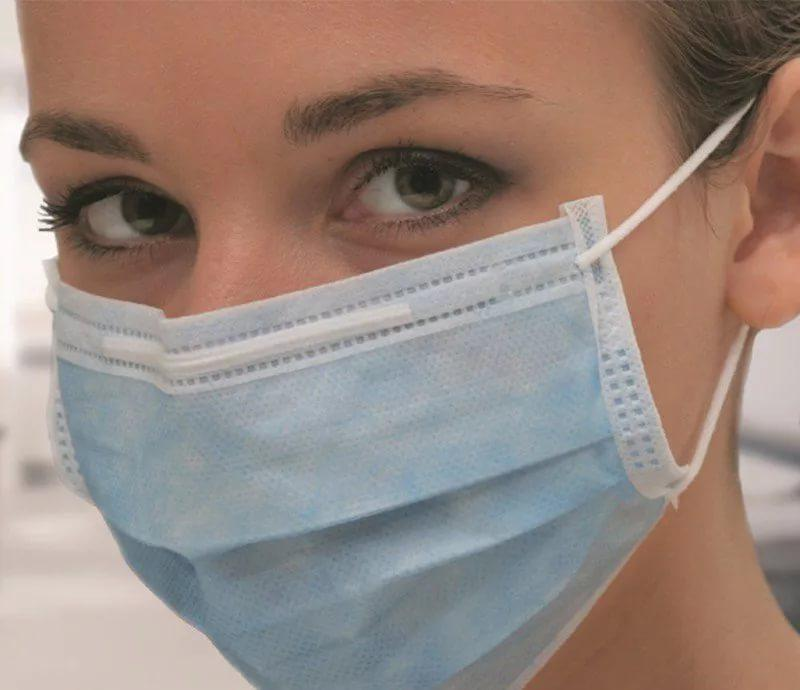mask: (17, 5, 705, 690)
